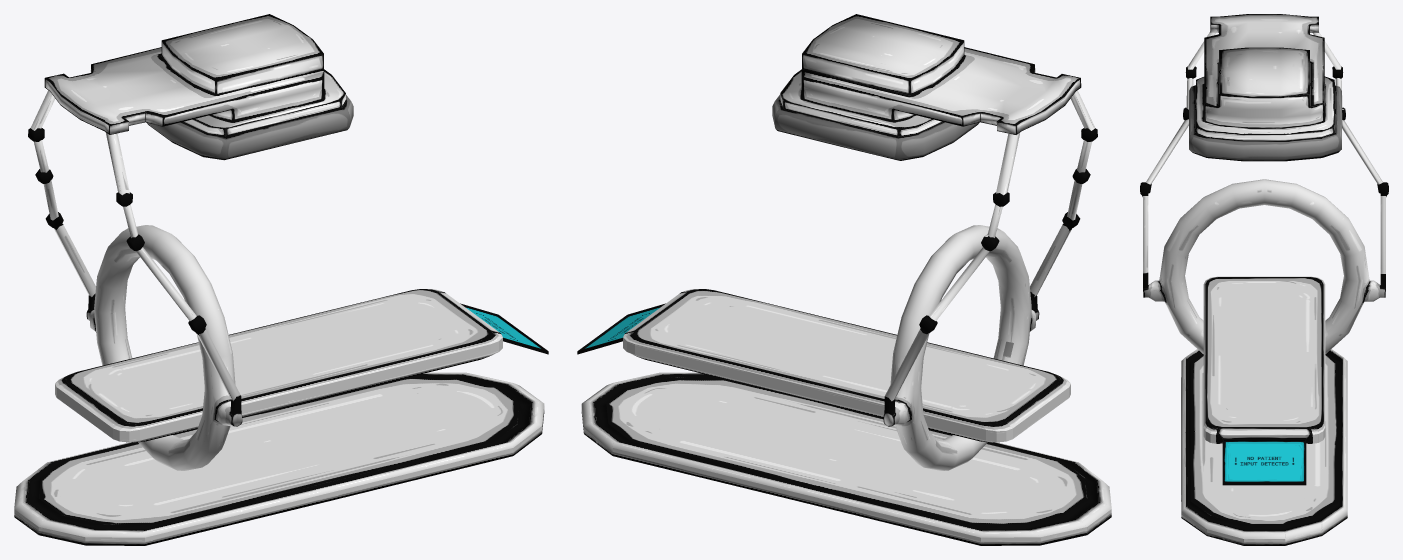
File: medical_bed01.fbx
3 views of the same model, side by side, from view 1: azimuth 30°, elevation 25°; view 2: azimuth 150°, elevation 25°; view 3: azimuth 270°, elevation 25° (orthographic). The views are drawn at different scales.
Visible parts, largest first — view 1: Circle; view 2: Circle; view 3: Circle.
Part boxes in pixels (bbox=[...]): Circle: bbox=[14, 14, 548, 545]; Circle: bbox=[577, 14, 1111, 545]; Circle: bbox=[1140, 14, 1388, 545].
Size of the model in its own units: 527 by 425 by 269.
